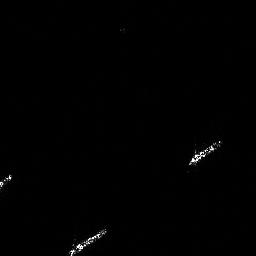ship: (68, 222, 111, 256), (189, 138, 223, 169)
